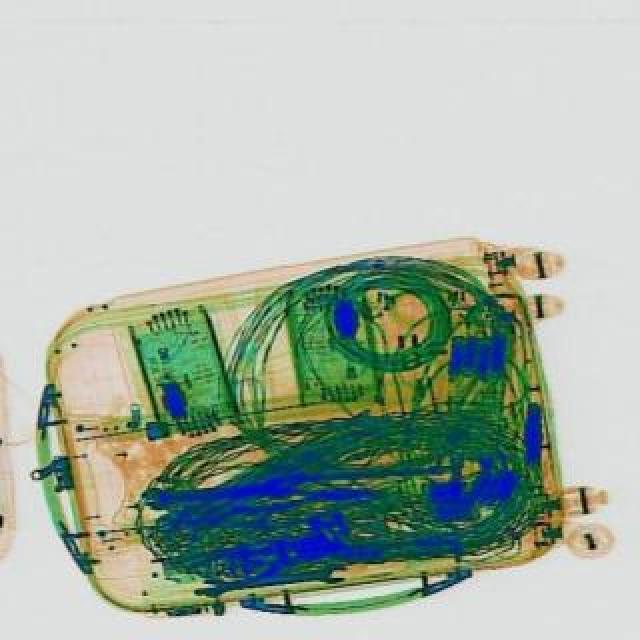scissors: (190, 560, 346, 600), (138, 470, 290, 510)
